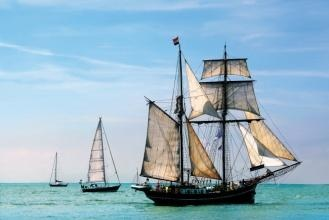fanchuan: (134, 33, 301, 207), (78, 115, 122, 194), (46, 154, 68, 189)
